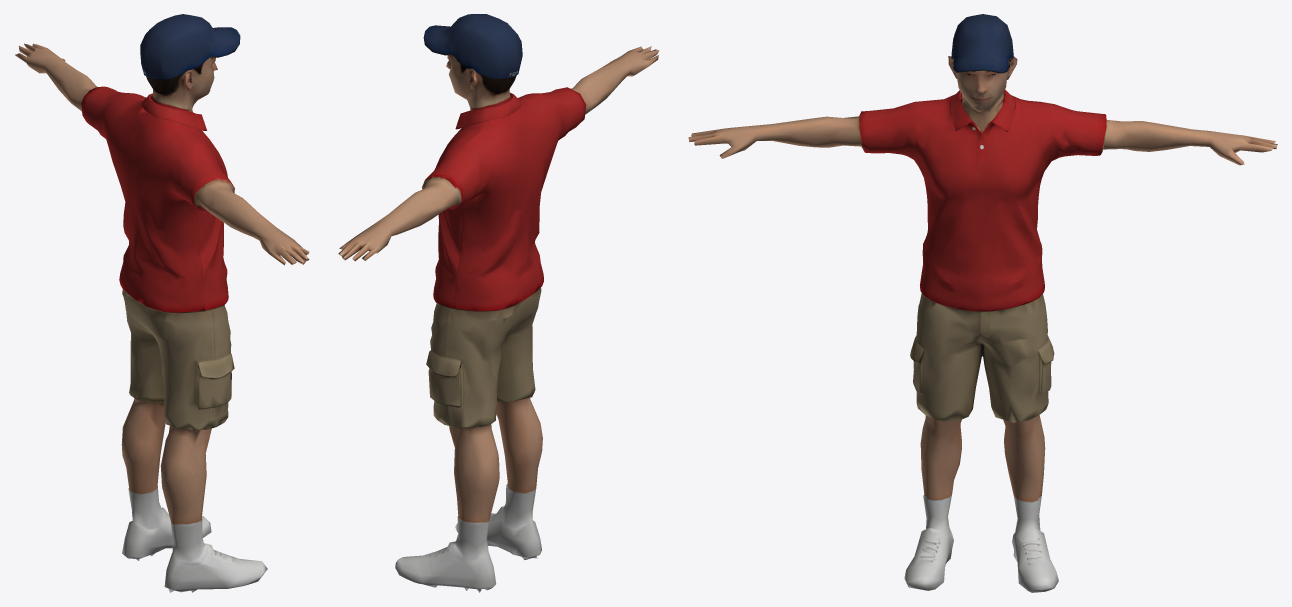
Rendered from fan_dad.glb.
3 views of the same model, side by side, from view 1: azimuth 30°, elevation 25°; view 2: azimuth 150°, elevation 25°; view 3: azimuth 270°, elevation 25° (orthographic).
Parts seen in each view (by area): view 1: tripo_node_70927fb4-6d73-4b14-9bcf-c6f43e5e0309; view 2: tripo_node_70927fb4-6d73-4b14-9bcf-c6f43e5e0309; view 3: tripo_node_70927fb4-6d73-4b14-9bcf-c6f43e5e0309.
Boxes of the visible parts, left/top/right/bottom form: tripo_node_70927fb4-6d73-4b14-9bcf-c6f43e5e0309: left=15, top=14, right=309, bottom=592; tripo_node_70927fb4-6d73-4b14-9bcf-c6f43e5e0309: left=338, top=14, right=659, bottom=592; tripo_node_70927fb4-6d73-4b14-9bcf-c6f43e5e0309: left=688, top=14, right=1277, bottom=592.
Bounding box in the file's own units: 0.208 × 1 × 0.9658.
Materials: 1 (1 with a texture image).
